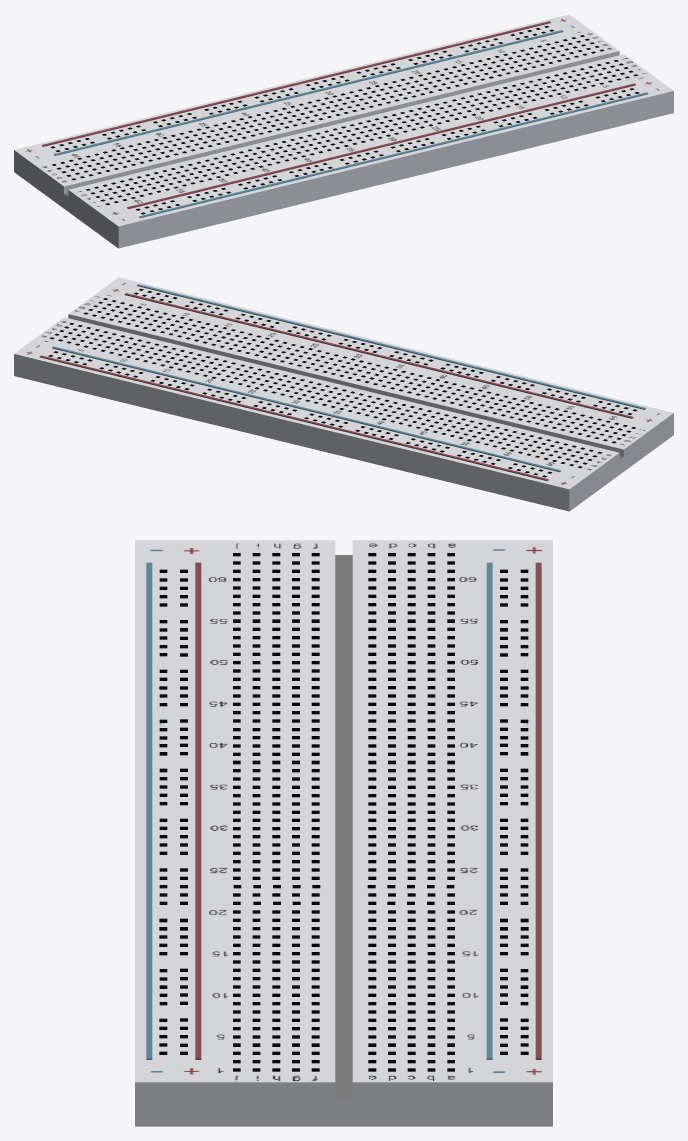
The model's file is breadboard.glb.
The picture shows the model from 3 angles, top to bottom: view 1: azimuth 30°, elevation 25°; view 2: azimuth 150°, elevation 25°; view 3: azimuth 270°, elevation 25°; orthographic projection. The views are drawn at different scales.
Parts seen in each view (by area): view 1: Cube; view 2: Cube; view 3: Cube.
Boxes of the visible parts, x1,y1,x2,y2 form: Cube: (14, 14, 673, 248); Cube: (14, 277, 673, 511); Cube: (135, 540, 552, 1126).
Bounding box in the file's own units: 14.21 × 0.5653 × 4.63.
Materials: 6 (1 with a texture image).
